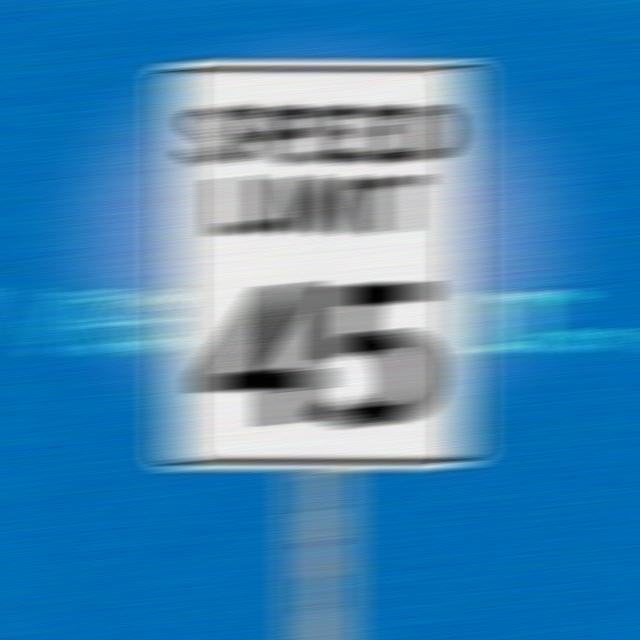speedLimit45: (161, 52, 486, 471)
